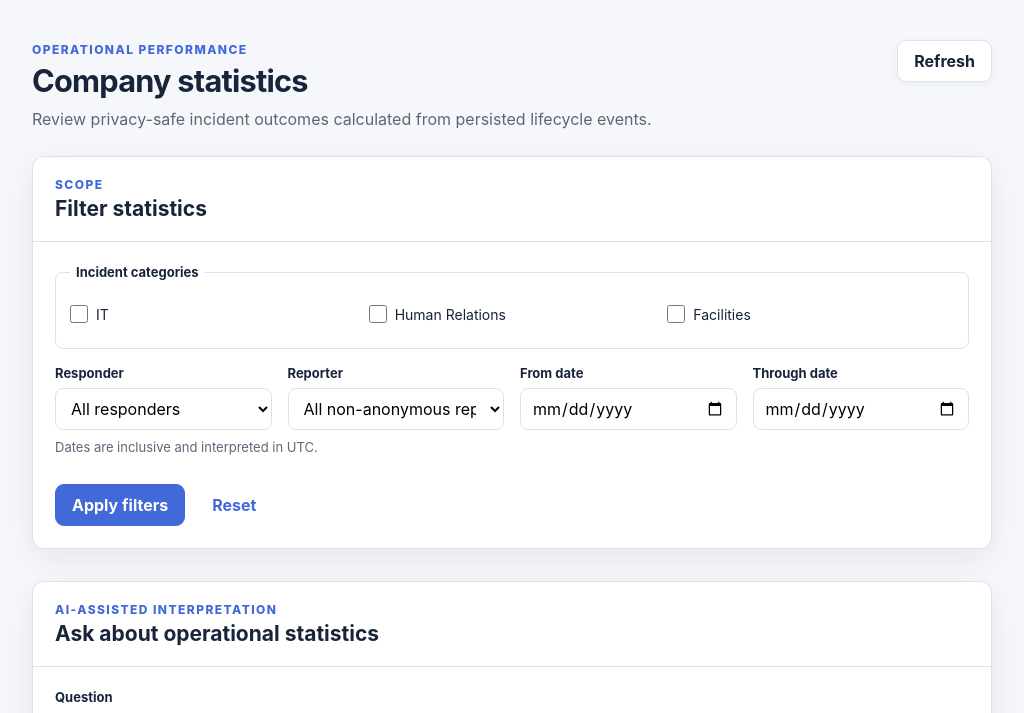
Test: AdministratorStatistics › rejects an inverted period without issuing another statistics request
Type "2026-10-22" into the date field labelled "From date".
click(628, 409); type("2026-10-22")  # box [520,388,736,430]
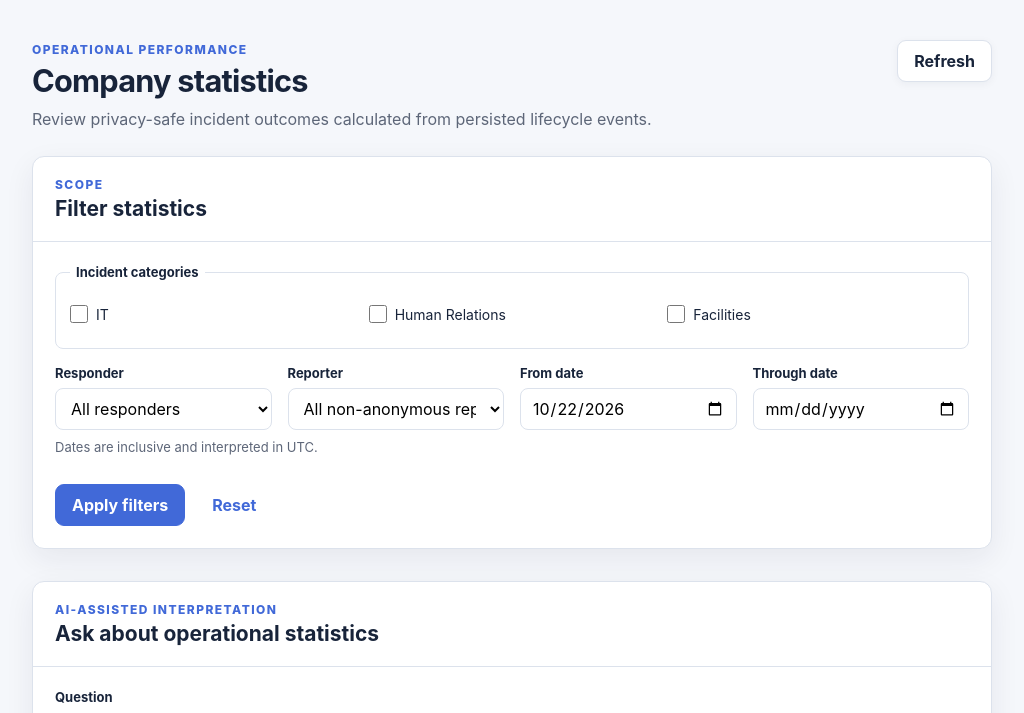
Type "2026-10-01" into the date field labelled "Through date".
click(861, 409); type("2026-10-01")  # box [752,388,969,430]
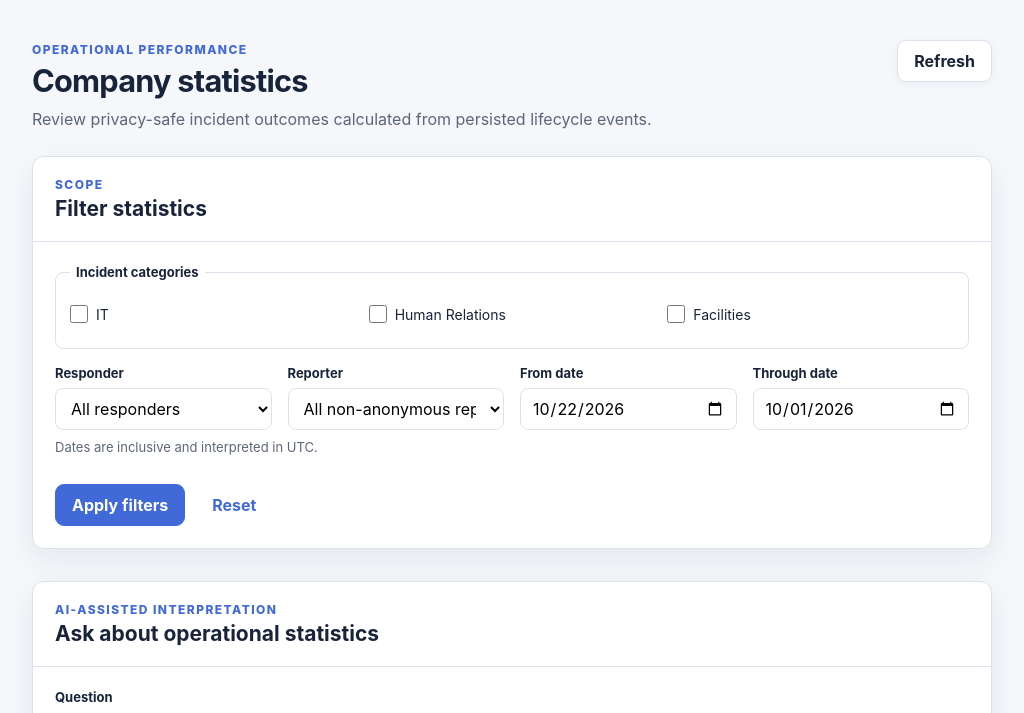
Click the button "Apply filters".
click(120, 505)  # box [55,484,185,526]
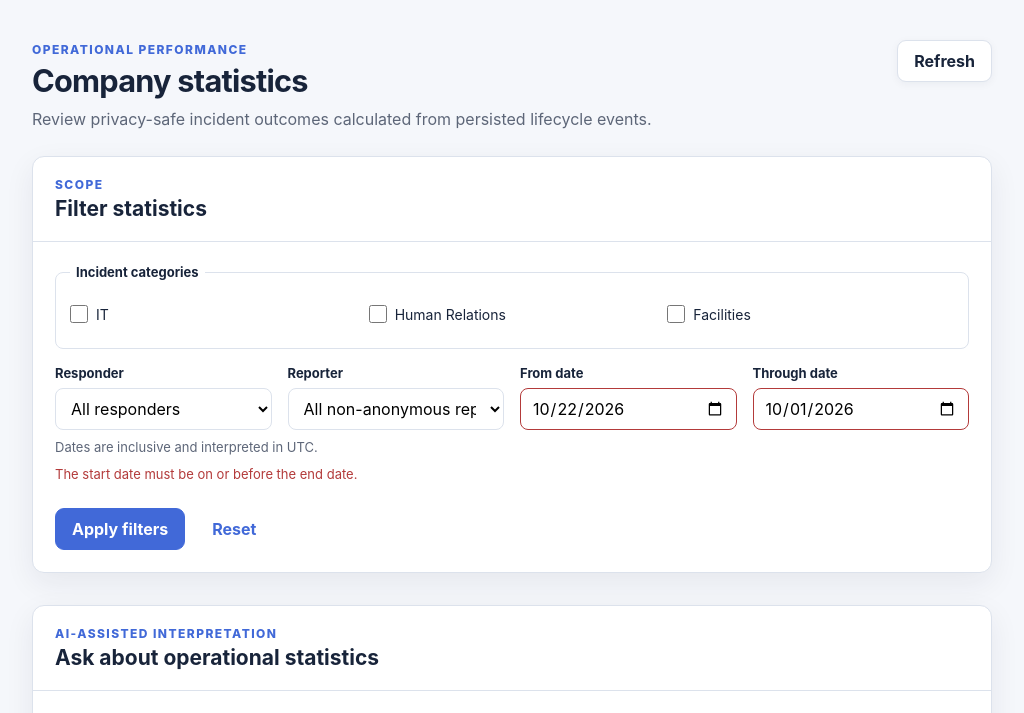
Now the message shows "start date must be on or before the end date", box [55,466,357,482]
